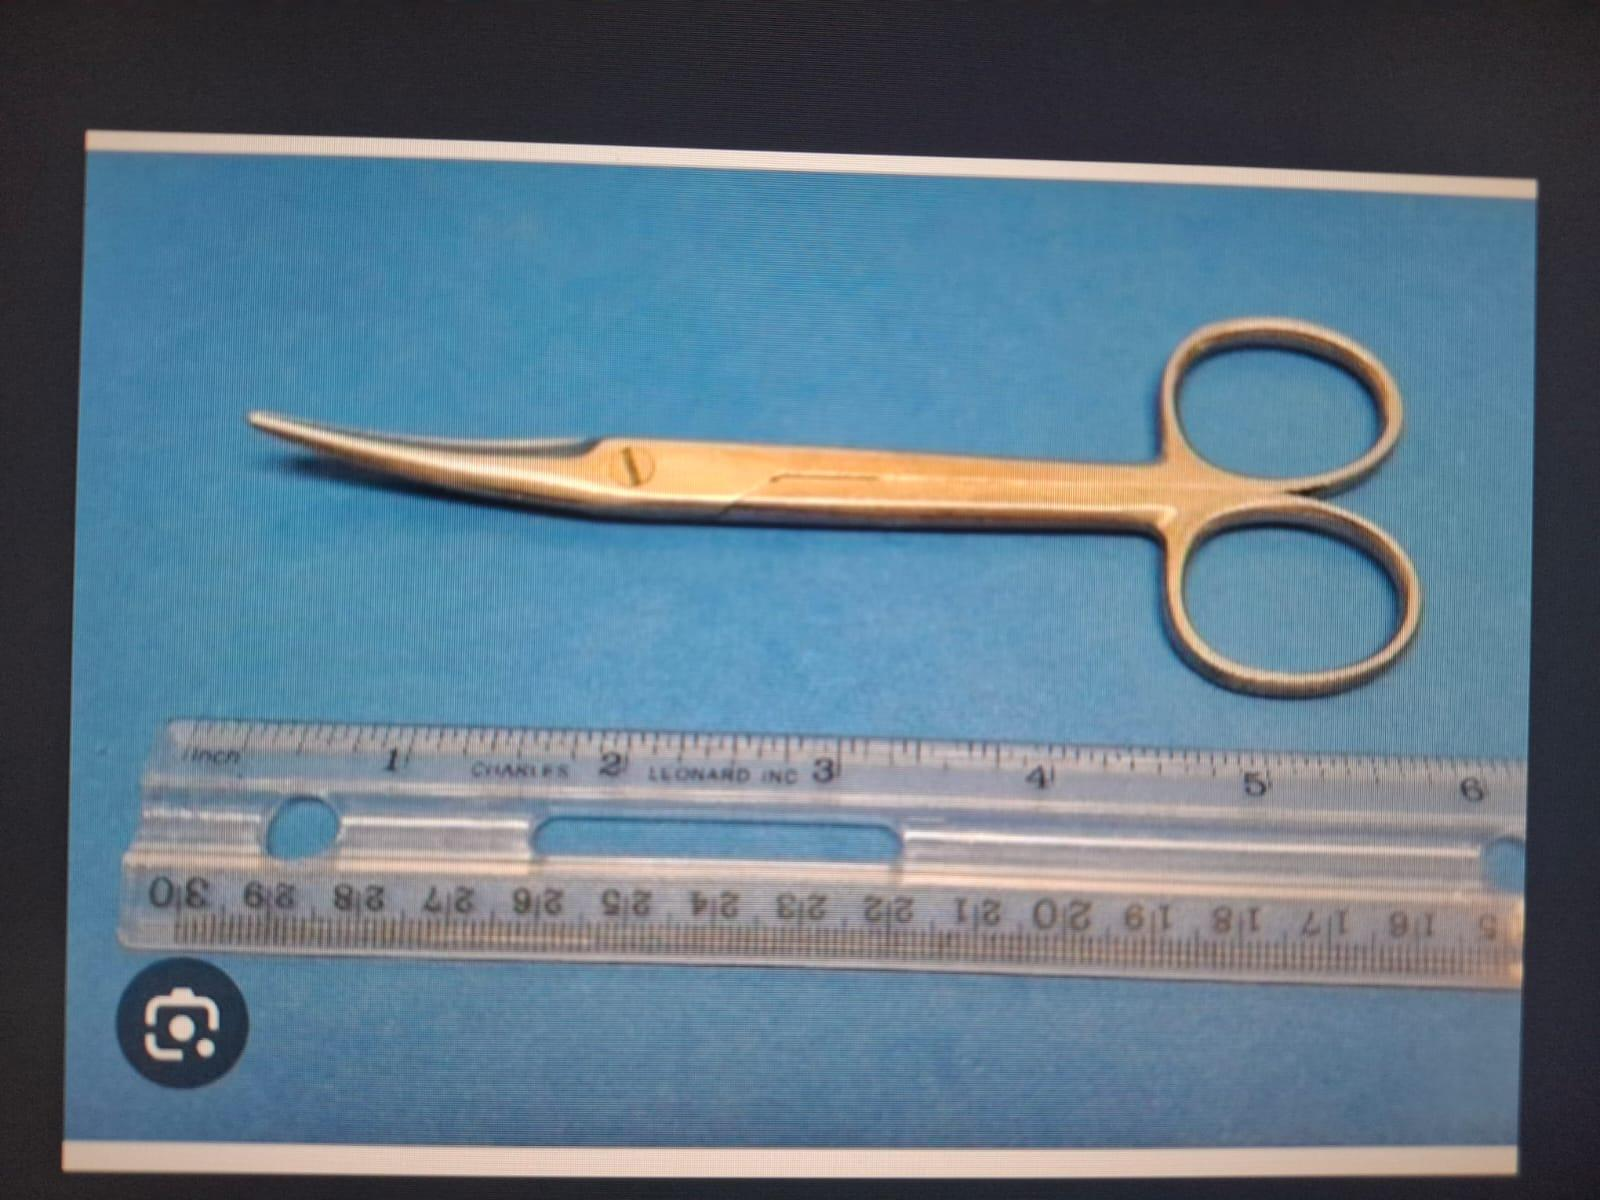Curved Mayo: (226, 300, 1434, 718)
